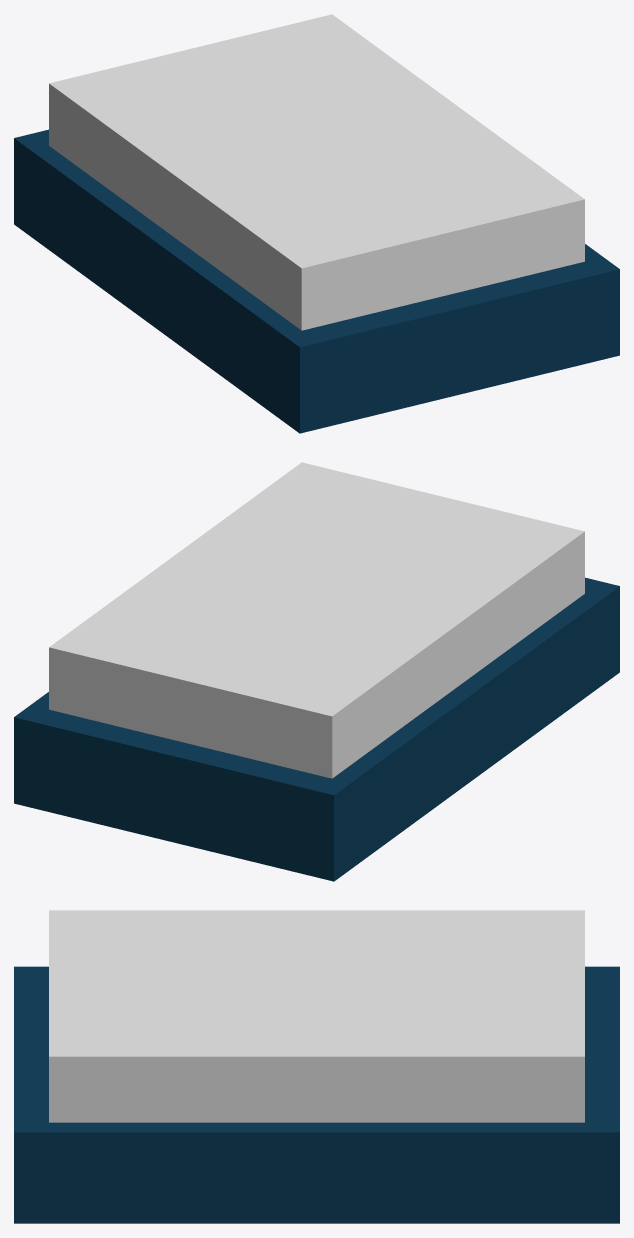
Rendered from Vegetables.fbx.
3 renders of one model, top to bottom at view 1: azimuth 30°, elevation 25°; view 2: azimuth 150°, elevation 25°; view 3: azimuth 270°, elevation 25°, orthographic. The views are drawn at different scales.
Parts seen in each view (by area): view 1: Vegs_LOD_0; view 2: Vegs_LOD_0; view 3: Vegs_LOD_0.
Boxes of the visible parts, x1,y1,x2,y2 form: Vegs_LOD_0: [14, 14, 619, 433]; Vegs_LOD_0: [14, 462, 619, 881]; Vegs_LOD_0: [14, 910, 619, 1223].
Size of what is drawn, in the model's own units: 17.85 by 7.92 by 27.6.
